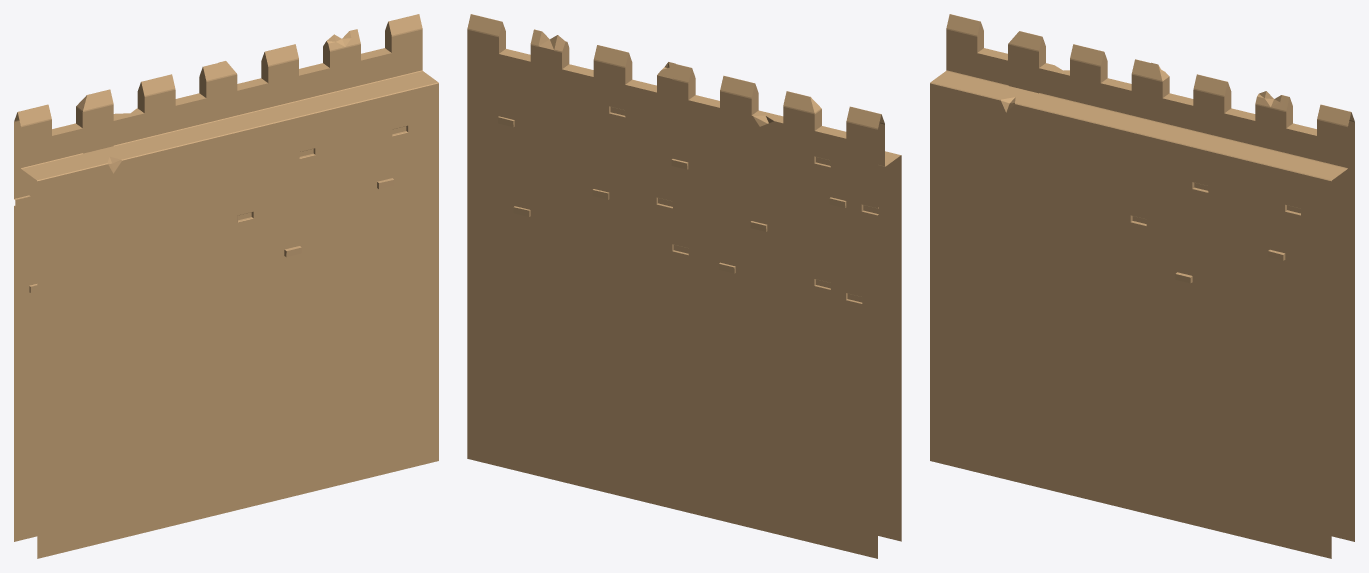
The model's file is castle_park.fbx.
The picture shows the model from 3 angles, left to right: view 1: azimuth 30°, elevation 25°; view 2: azimuth 150°, elevation 25°; view 3: azimuth 330°, elevation 25°; orthographic projection. The views are drawn at different scales.
Parts seen in each view (by area): view 1: Tower_wall; view 2: Tower_wall; view 3: Tower_wall.
Part boxes in pixels (x1=…): Tower_wall: x1=14, y1=14, x2=438, y2=558; Tower_wall: x1=467, y1=14, x2=901, y2=558; Tower_wall: x1=930, y1=14, x2=1354, y2=558.
Size of the model in its own units: 1000 by 1030 by 114.
